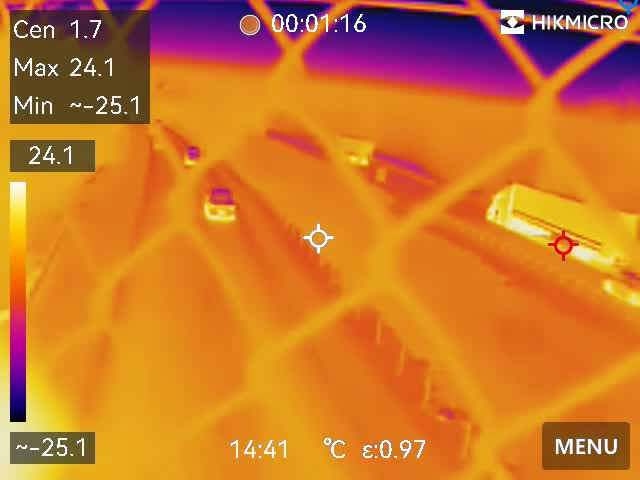heavyTruck: (483, 180, 638, 270), (324, 134, 376, 166)
vehicle: (203, 187, 237, 225), (182, 143, 200, 170)
